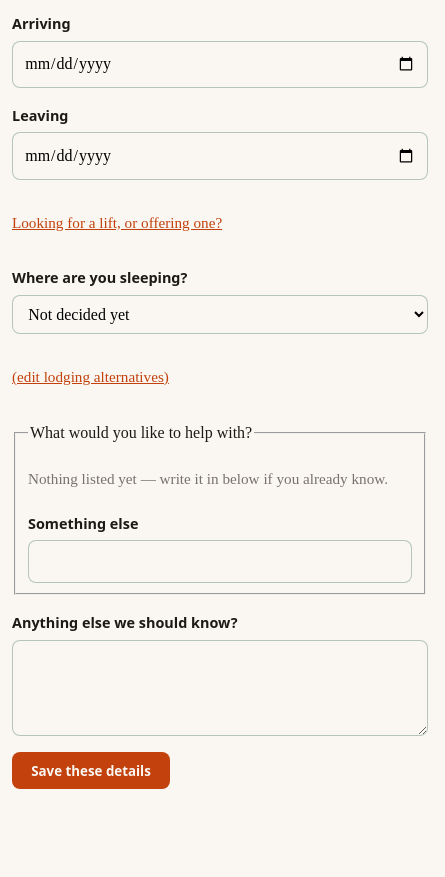
Test: StayForm › hands the saved row back, so the page does not go stale
The width and height of the screenshot is (445, 877).
Step 1. Click the button "Save these details" → click(91, 771), box [12,752,170,789]
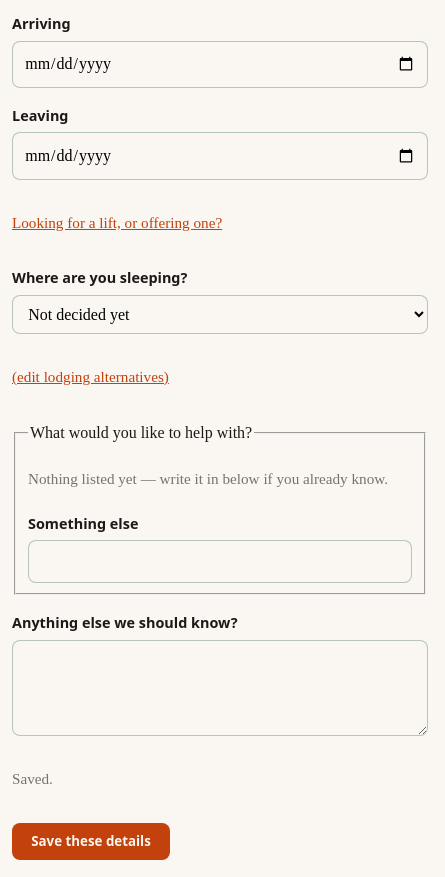
Result: the message shows "Saved" at [12,770,53,787]
